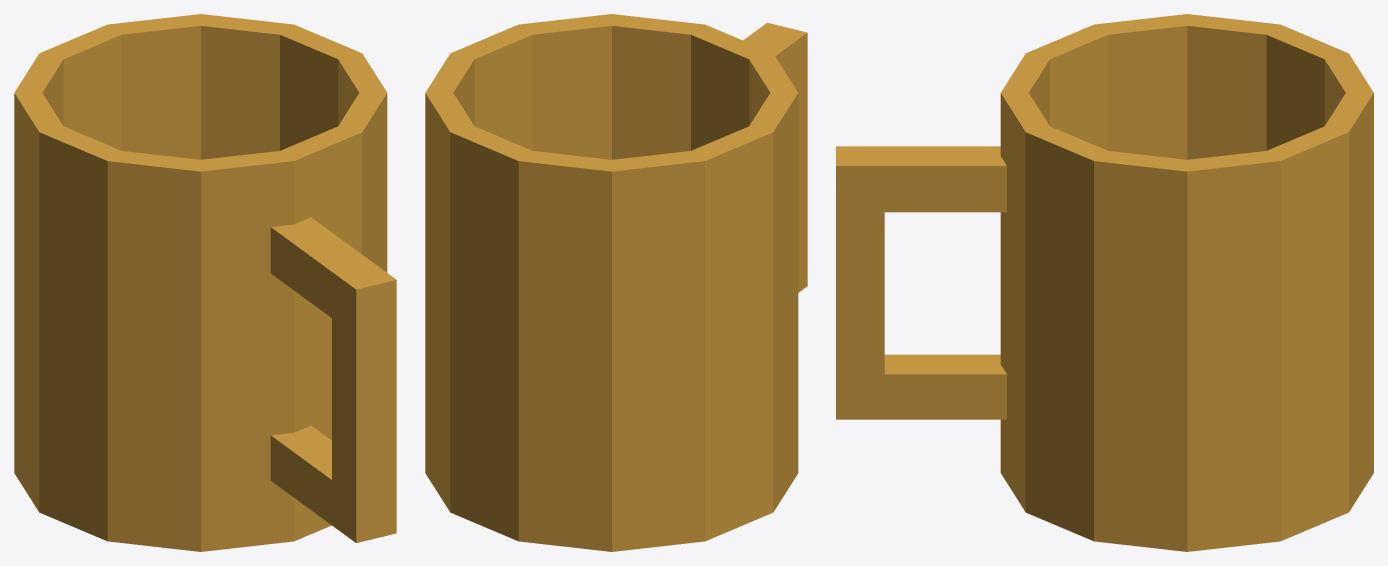
The model's file is Taza.fbx.
The picture shows the model from 3 angles, left to right: view 1: azimuth 30°, elevation 25°; view 2: azimuth 150°, elevation 25°; view 3: azimuth 270°, elevation 25°; orthographic projection.
Parts seen in each view (by area): view 1: Taza; view 2: Taza; view 3: Taza.
Part boxes in pixels (box(x1,y1,x2,y2)): Taza: box(14, 14, 396, 551); Taza: box(425, 14, 807, 551); Taza: box(836, 14, 1373, 551).
Bounding box in the file's own units: 0.08 × 0.09 × 0.1153.
